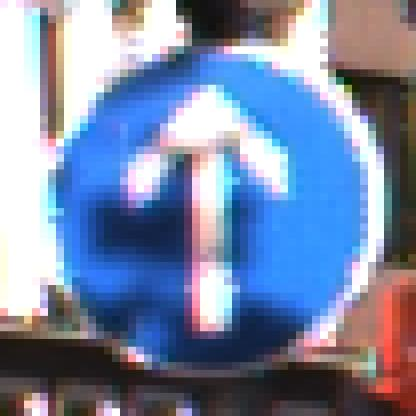AheadOnly: (41, 40, 377, 379)
